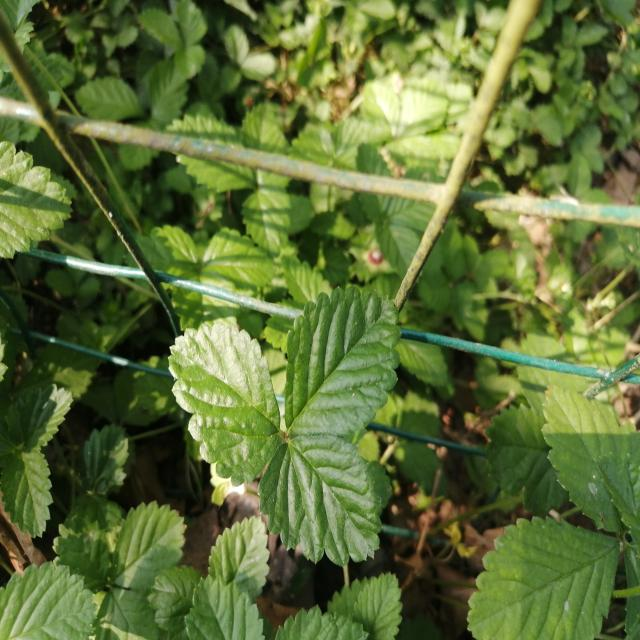Mock_strawberry: (166, 278, 429, 544)
